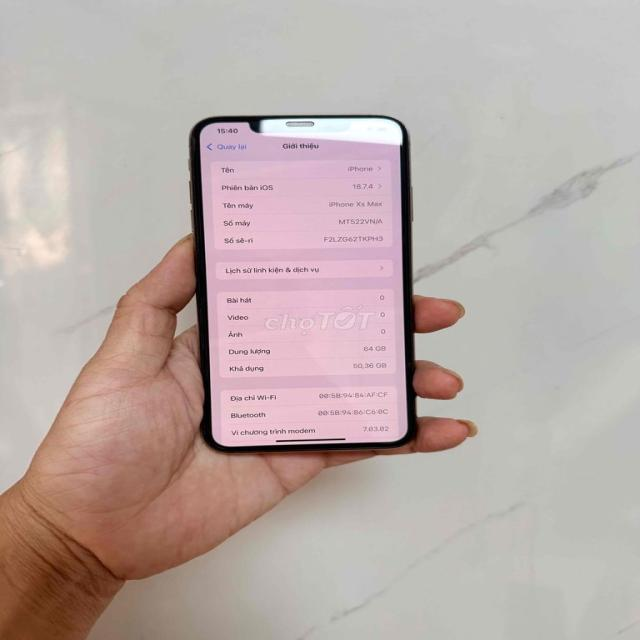gen_x_xs: (180, 108, 434, 458)
